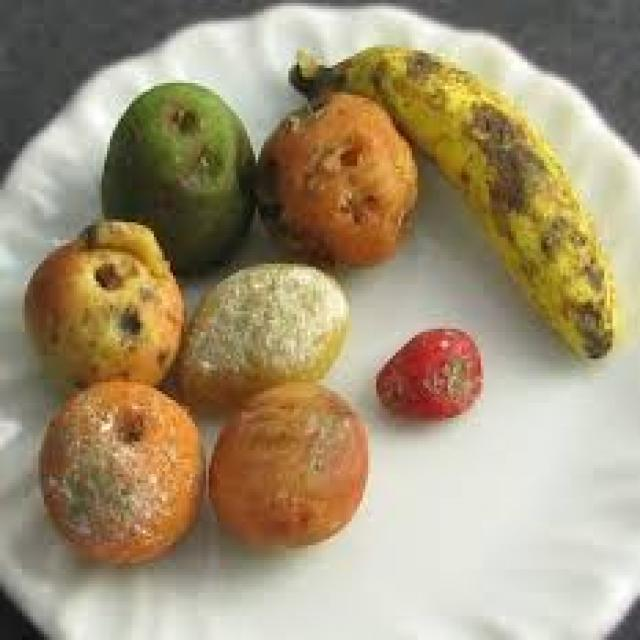organic waste: (288, 41, 612, 362), (33, 376, 200, 563), (96, 80, 253, 273), (252, 86, 414, 267), (20, 216, 182, 394), (204, 376, 366, 548), (176, 255, 343, 400), (371, 323, 478, 415)
